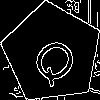Q: (27, 28, 88, 90)
